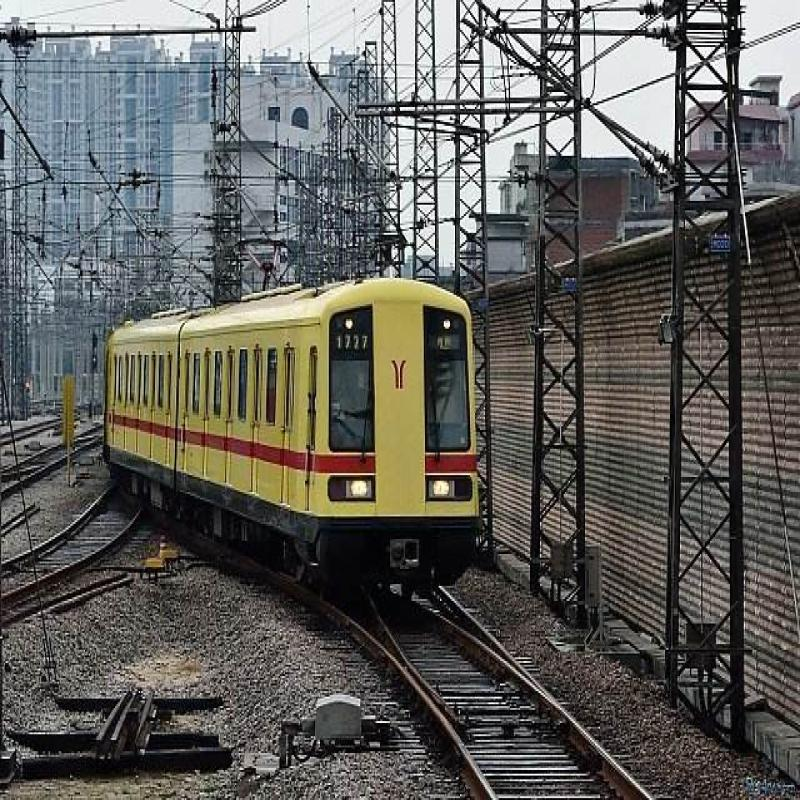train: (106, 303, 475, 606)
